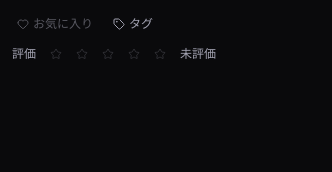
it: #13 作品詳細ヘッダ（WorkMarksBar）のマーク › 読み込み前は操作できず、既存の評価が消えない
Click the button named "5 段階で評価": (160, 54) [148, 42, 172, 66]
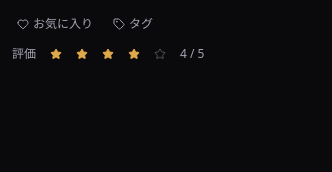
Check: the text "4 / 5" is shown, box [180, 45, 204, 63]
Check: the button named "5 段階で評価" is enabled, box [148, 42, 172, 66]
